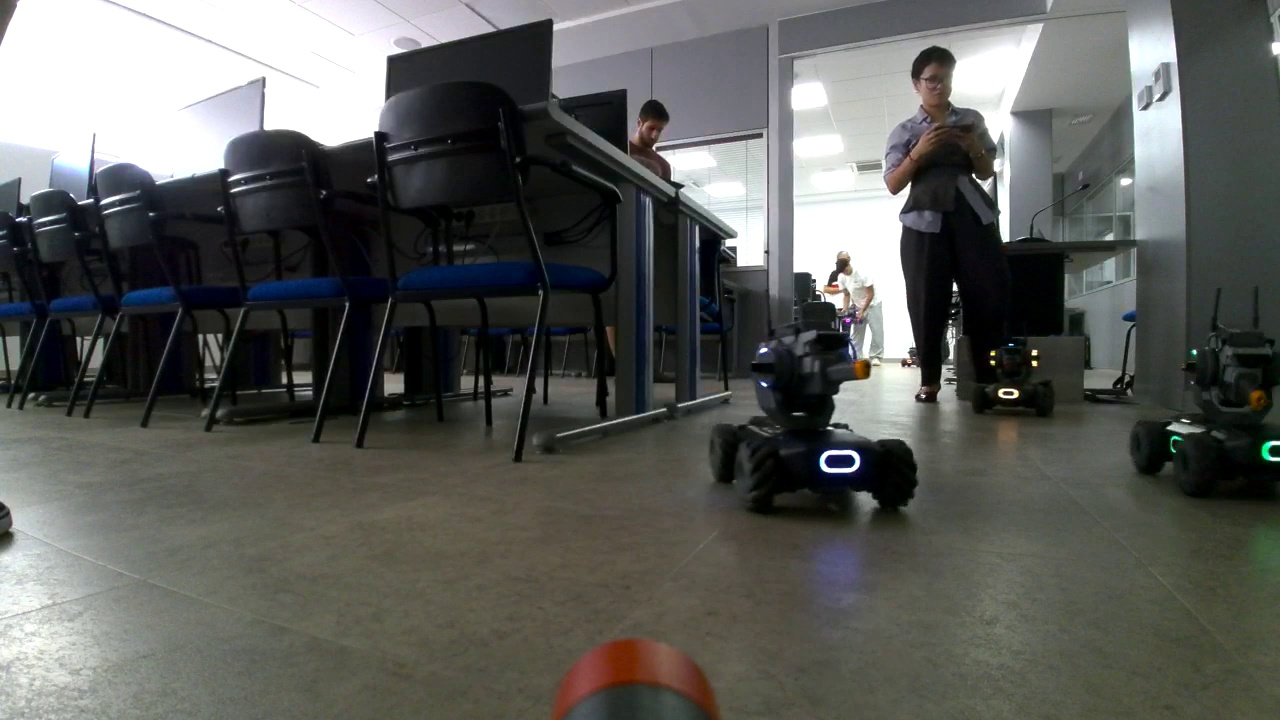robot: (702, 288, 916, 512), (1130, 287, 1280, 501), (973, 334, 1054, 411), (902, 339, 927, 366), (842, 304, 862, 324)
